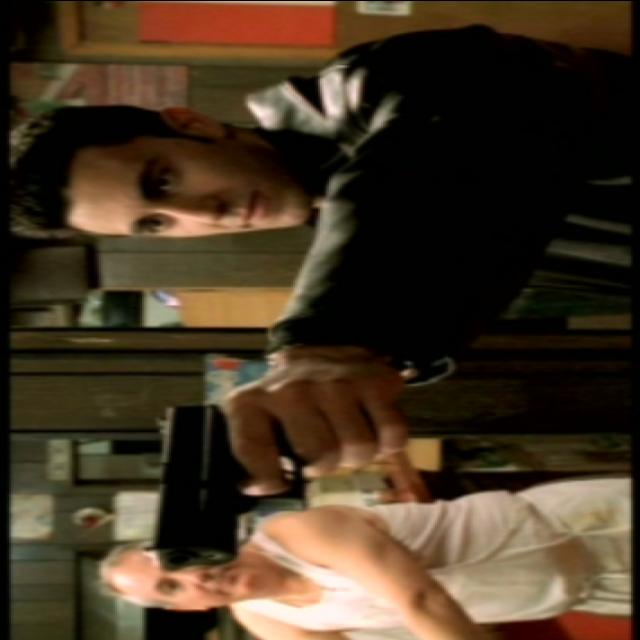weapons: (114, 394, 394, 590)
